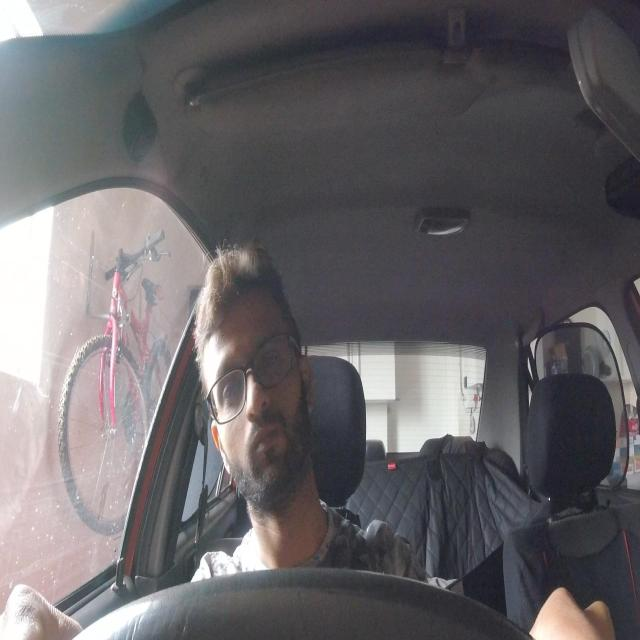open: (214, 358, 243, 412)
